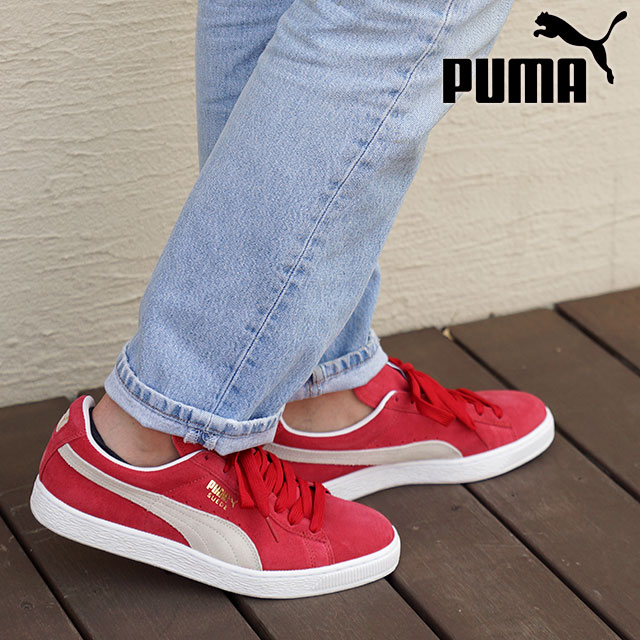Puma Suede Low Red: (29, 388, 405, 602), (245, 348, 558, 508)
